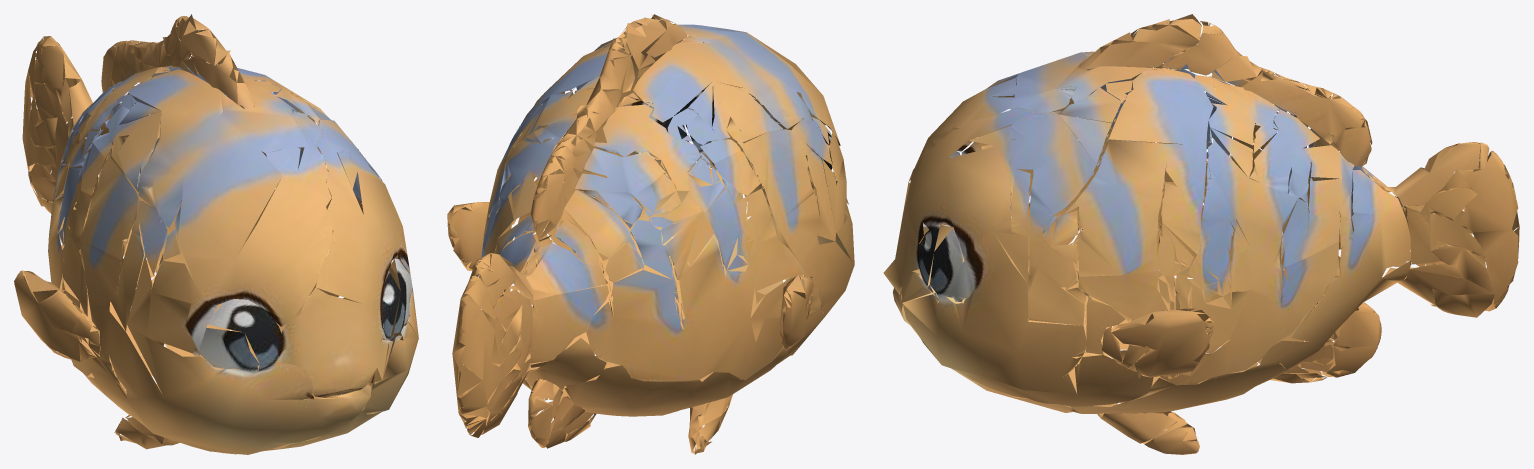
Rendered from fish.glb.
3 renders of one model, left to right at view 1: azimuth 30°, elevation 25°; view 2: azimuth 150°, elevation 25°; view 3: azimuth 270°, elevation 25°, orthographic. The views are drawn at different scales.
Visible parts, largest first — view 1: model; view 2: model; view 3: model.
Part boxes in pixels (bbox=[...]): model: bbox=[14, 14, 418, 454]; model: bbox=[447, 14, 854, 454]; model: bbox=[883, 14, 1519, 454].
Size of the model in its own units: 1.17 by 1.34 by 1.9.
Materials: 1 (1 with a texture image).
